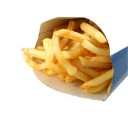frenchfries: (21, 23, 110, 88)
